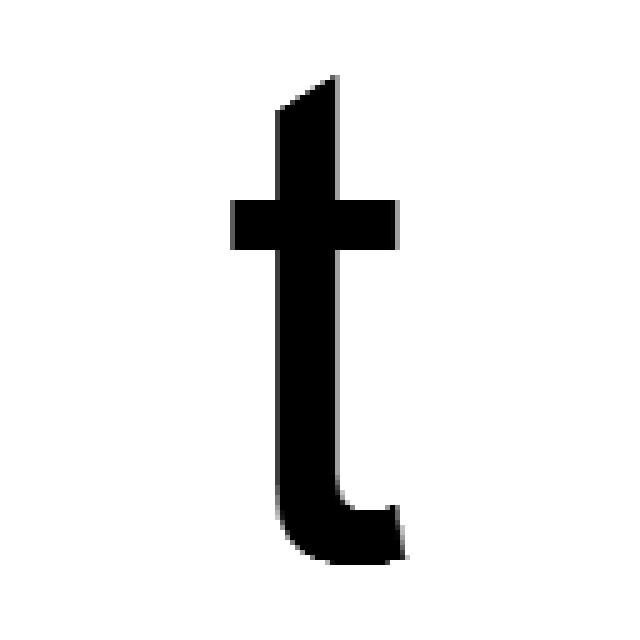T: (220, 65, 410, 565)
